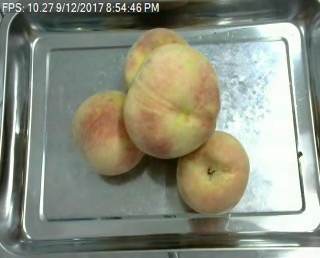Peach: (123, 40, 220, 160), (175, 129, 251, 215), (71, 89, 141, 177)
